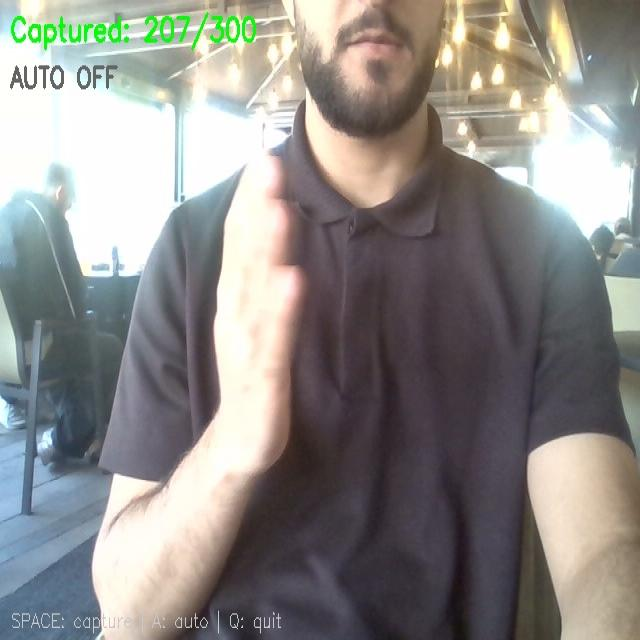Hand: (213, 155, 302, 474)
